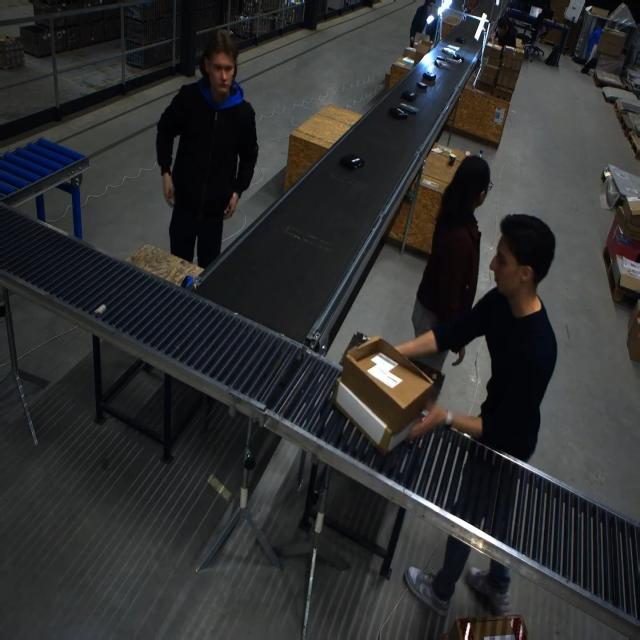box: (332, 335, 430, 452)
product: (339, 154, 364, 170), (388, 106, 408, 120), (444, 54, 465, 66), (398, 103, 418, 114), (442, 45, 460, 56), (401, 90, 417, 101), (434, 59, 450, 69), (422, 71, 436, 81), (458, 35, 468, 47), (415, 81, 427, 89)
